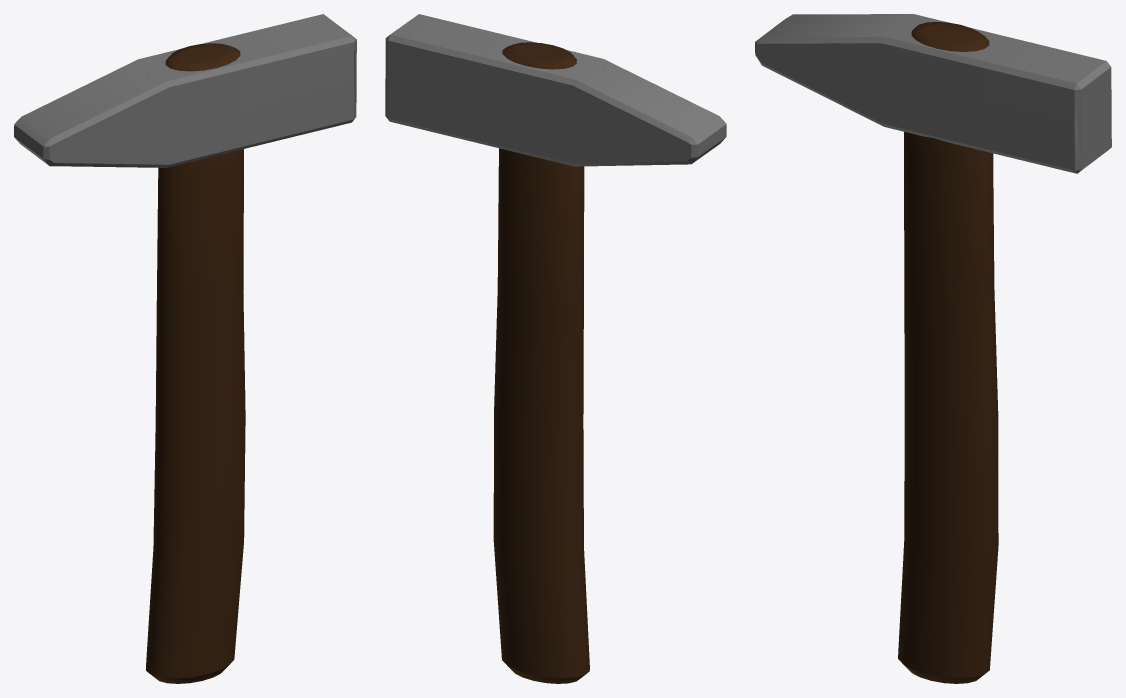
File: Martello.fbx
3 views of the same model, side by side, from view 1: azimuth 30°, elevation 25°; view 2: azimuth 150°, elevation 25°; view 3: azimuth 330°, elevation 25° (orthographic). The views are drawn at different scales.
Visible parts, largest first — view 1: Hammer_LP; view 2: Hammer_LP; view 3: Hammer_LP.
Part boxes in pixels (<box>): Hammer_LP: <box>14,14,356,683</box>; Hammer_LP: <box>385,14,726,683</box>; Hammer_LP: <box>755,14,1111,683</box>.
Size of the model in its own units: 15.72 by 30 by 3.07.
